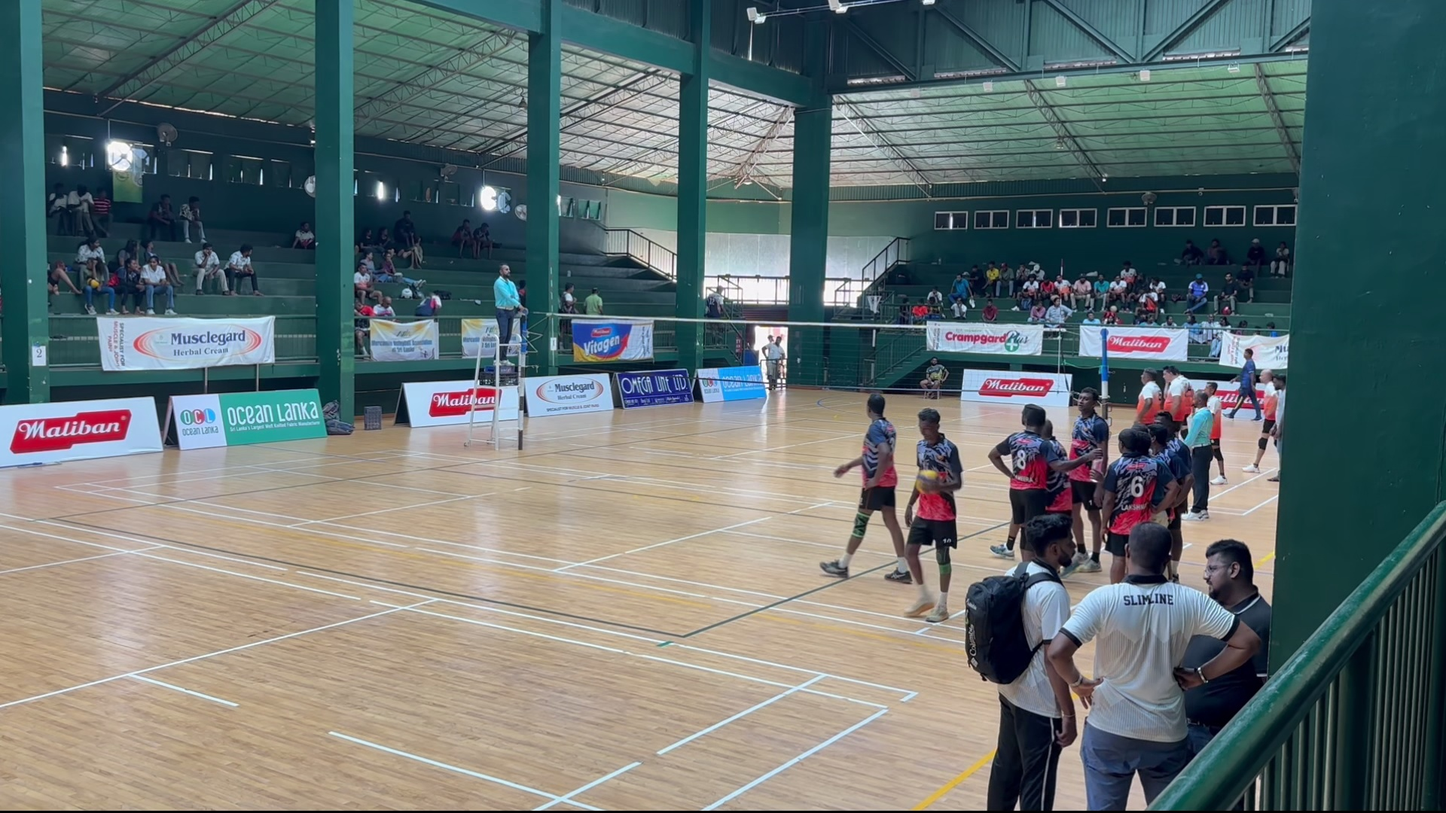Ball: (492, 262, 531, 366)
Payer_B: (831, 394, 909, 581), (904, 408, 965, 628), (989, 408, 1059, 561), (1104, 431, 1160, 579), (1064, 394, 1110, 564)
